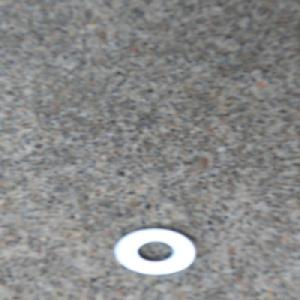Washer: (111, 226, 197, 276)
